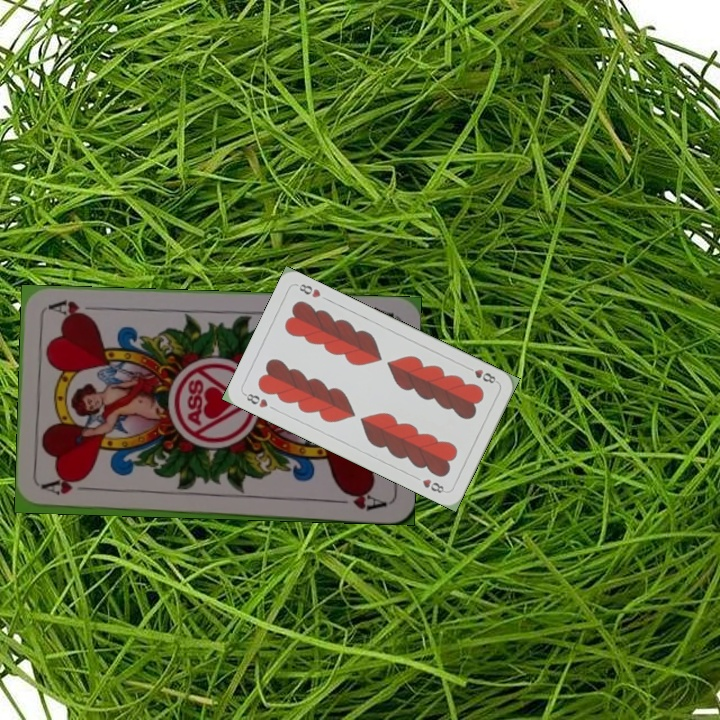H8: (462, 363, 500, 386), (240, 389, 270, 410)
HA: (40, 478, 99, 498)
